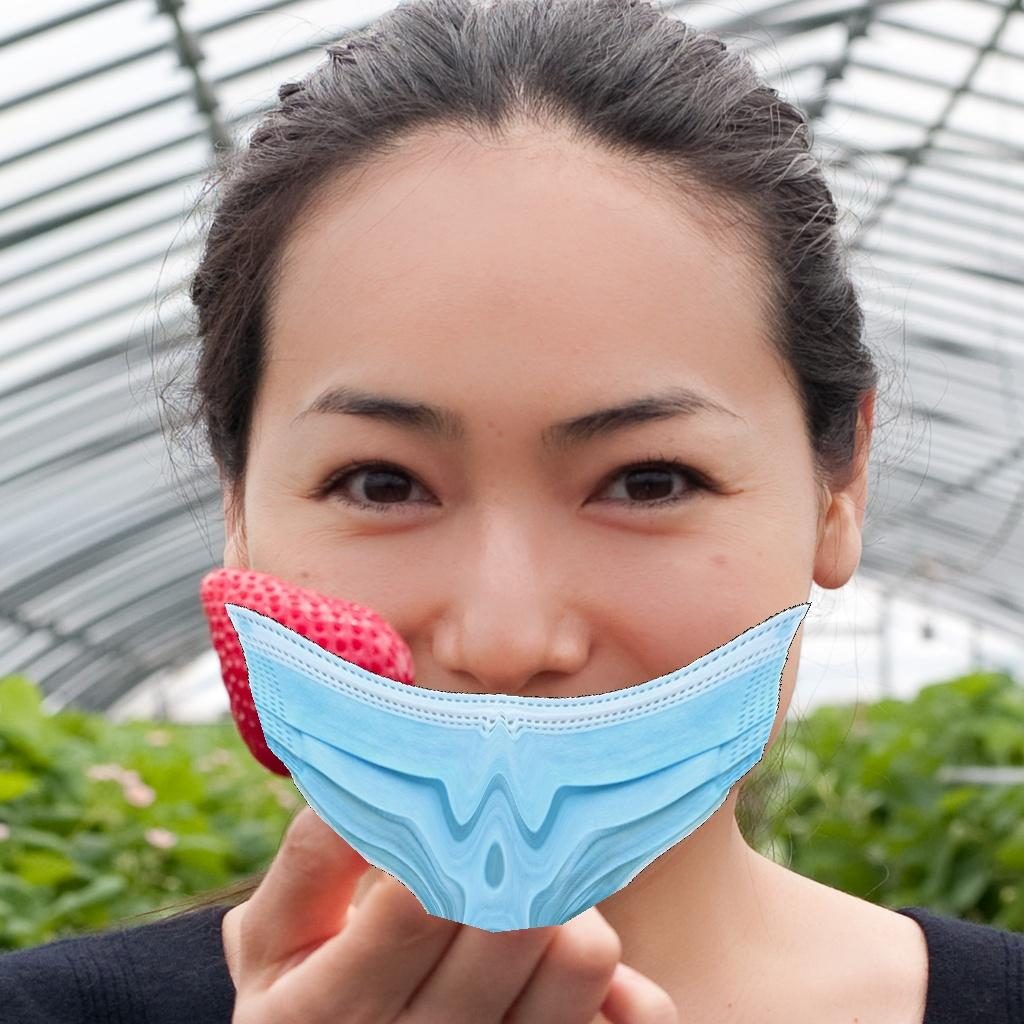Máscara Incorreta: (239, 222, 813, 914)
